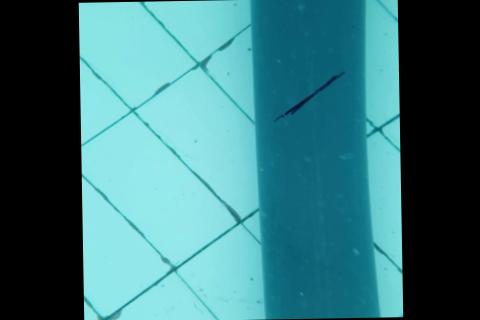keretakan: (275, 70, 346, 119)
